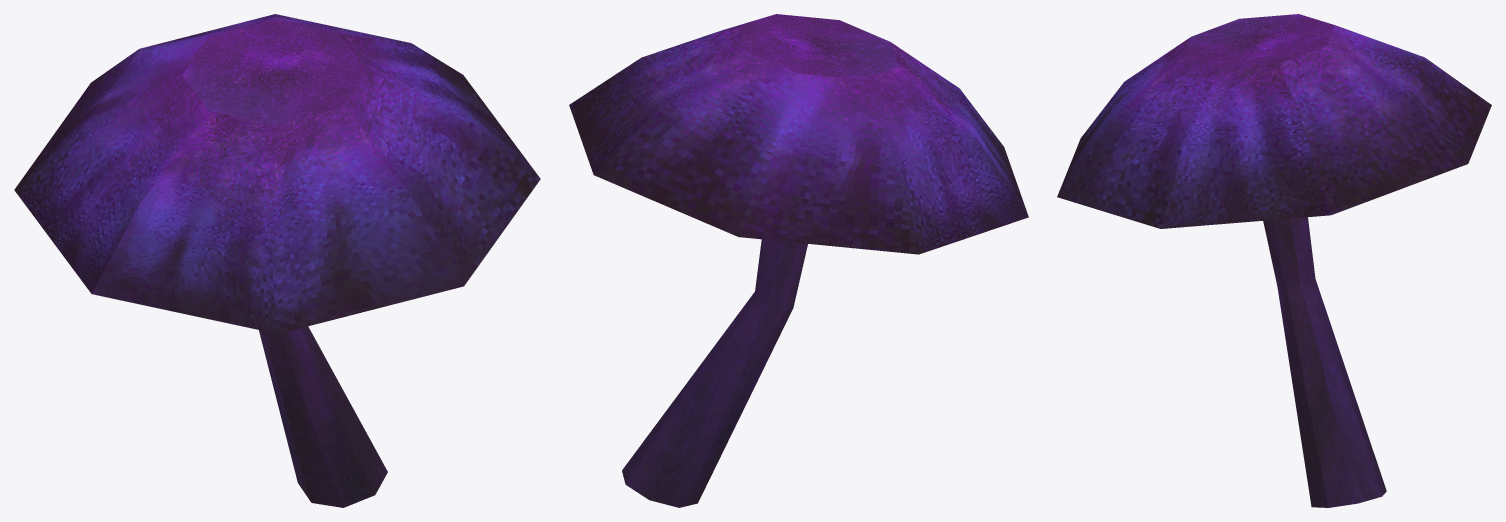
Rendered from DefaultMushroom.glb.
3 views of the same model, side by side, from view 1: azimuth 30°, elevation 25°; view 2: azimuth 150°, elevation 25°; view 3: azimuth 270°, elevation 25° (orthographic). The views are drawn at different scales.
Parts seen in each view (by area): view 1: Cylinder.004; view 2: Cylinder.004; view 3: Cylinder.004.
Boxes of the visible parts, x1=… form: Cylinder.004: x1=14, y1=14, x2=540, y2=507; Cylinder.004: x1=569, y1=14, x2=1028, y2=507; Cylinder.004: x1=1057, y1=14, x2=1491, y2=507.
Bounding box in the file's own units: 9.88 × 10.79 × 9.89.
Materials: 2 (2 with a texture image).
